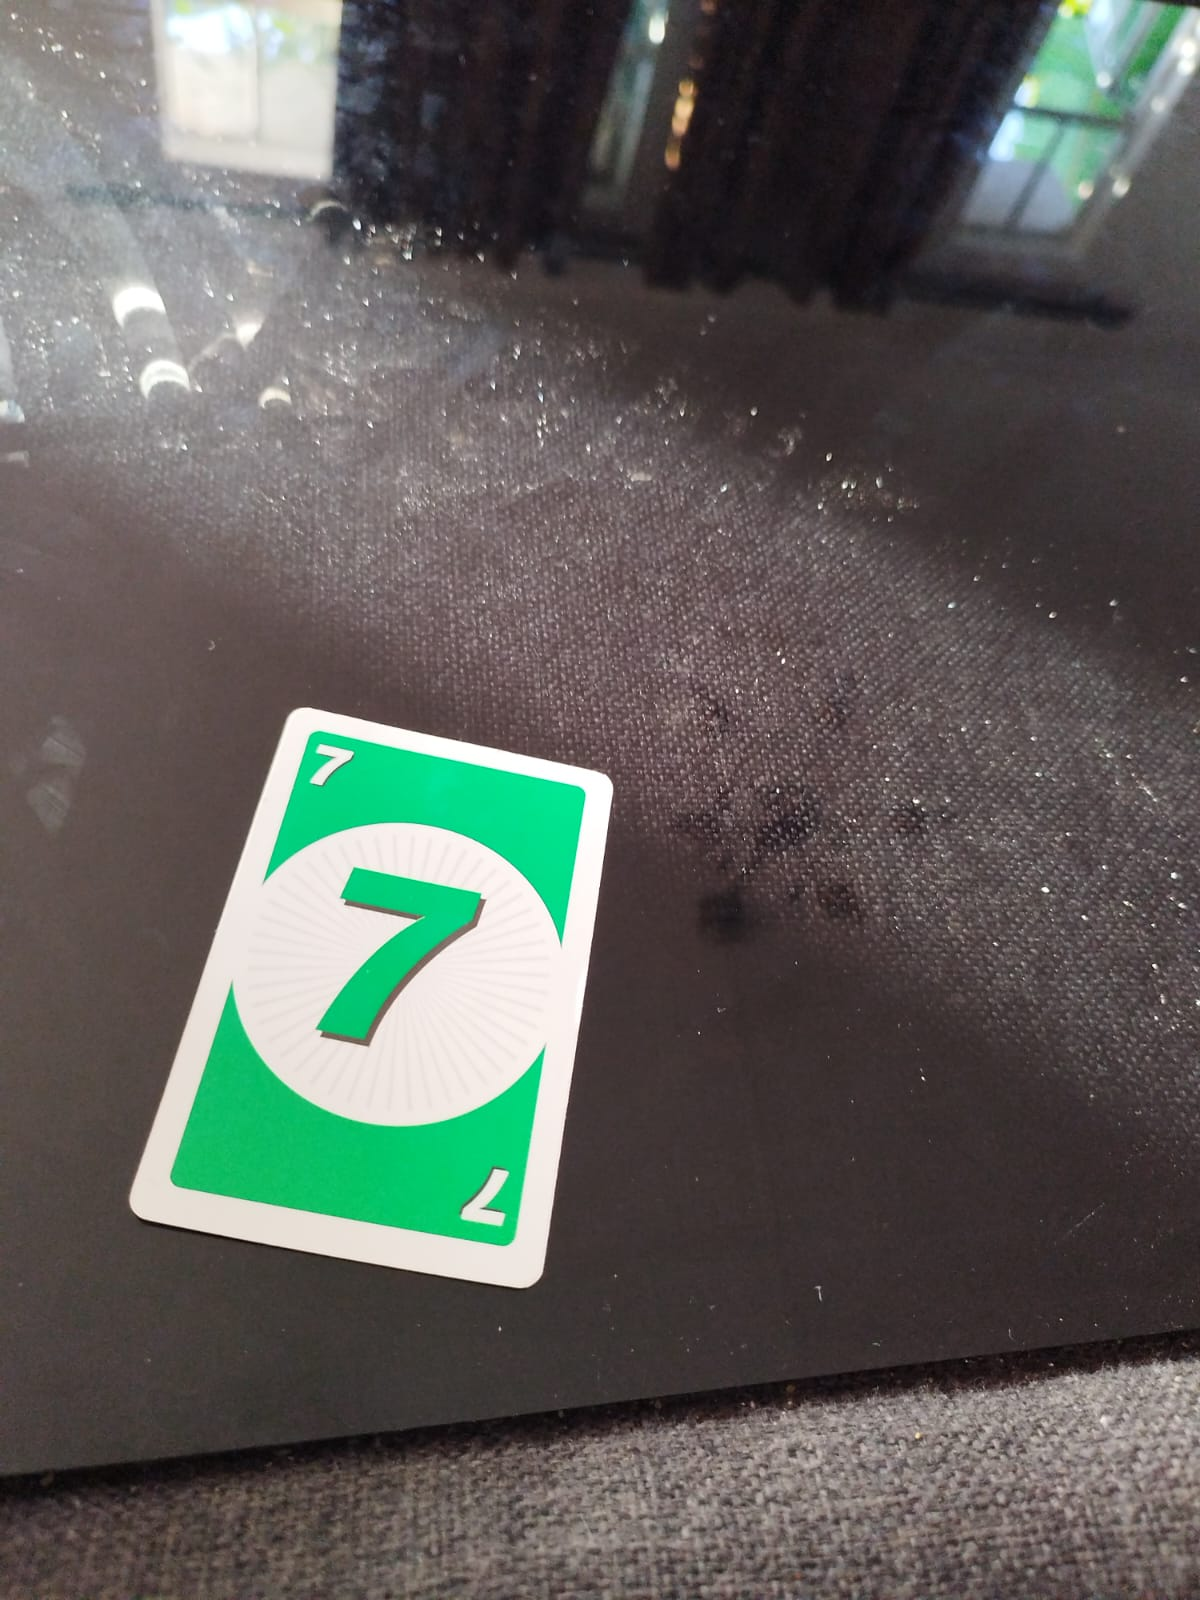skip_green: (315, 860, 485, 1051), (460, 1163, 513, 1233), (308, 741, 357, 787)
